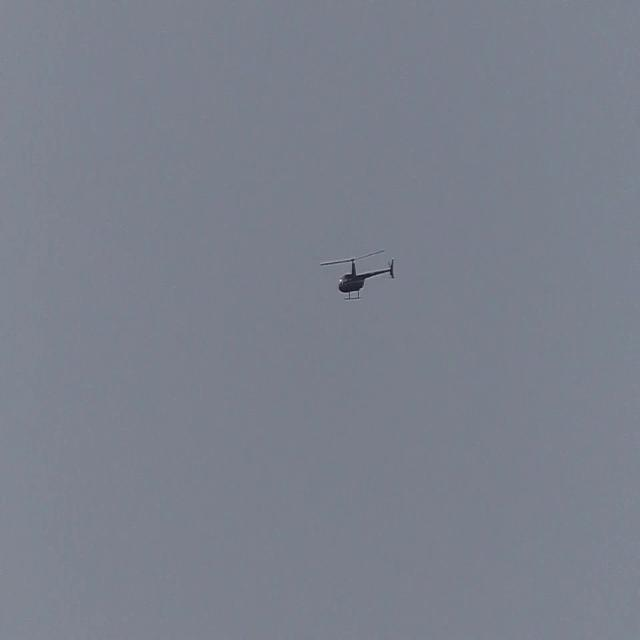CIV_HELO: (336, 257, 396, 301)
